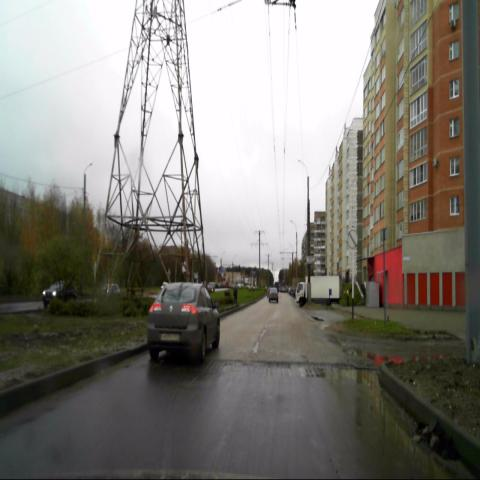3_31: (347, 229, 358, 248)
